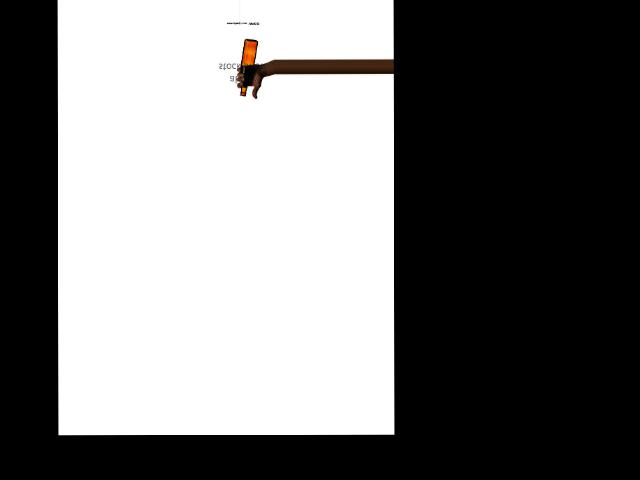beer: (239, 39, 258, 95)
